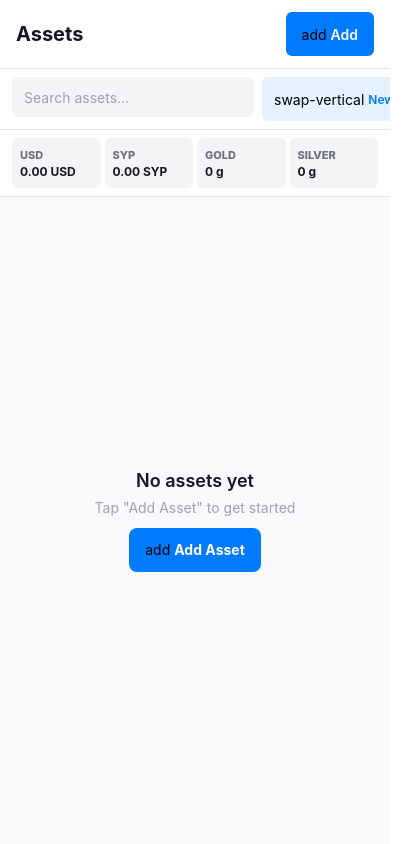
Test: Assets screen › shows a primary add action when the asset list is empty
Click the button labelled "add Add Asset" at (195, 550), box [129,528,261,572]
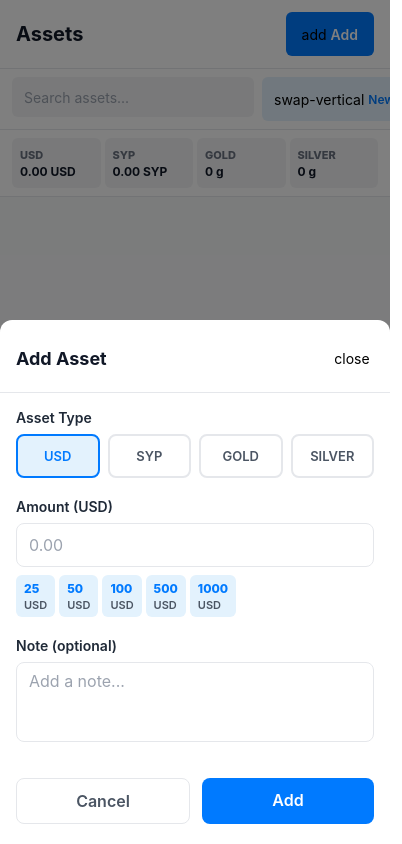
Expected: the field named "Amount (USD)" is shown, [16,523,374,567]
